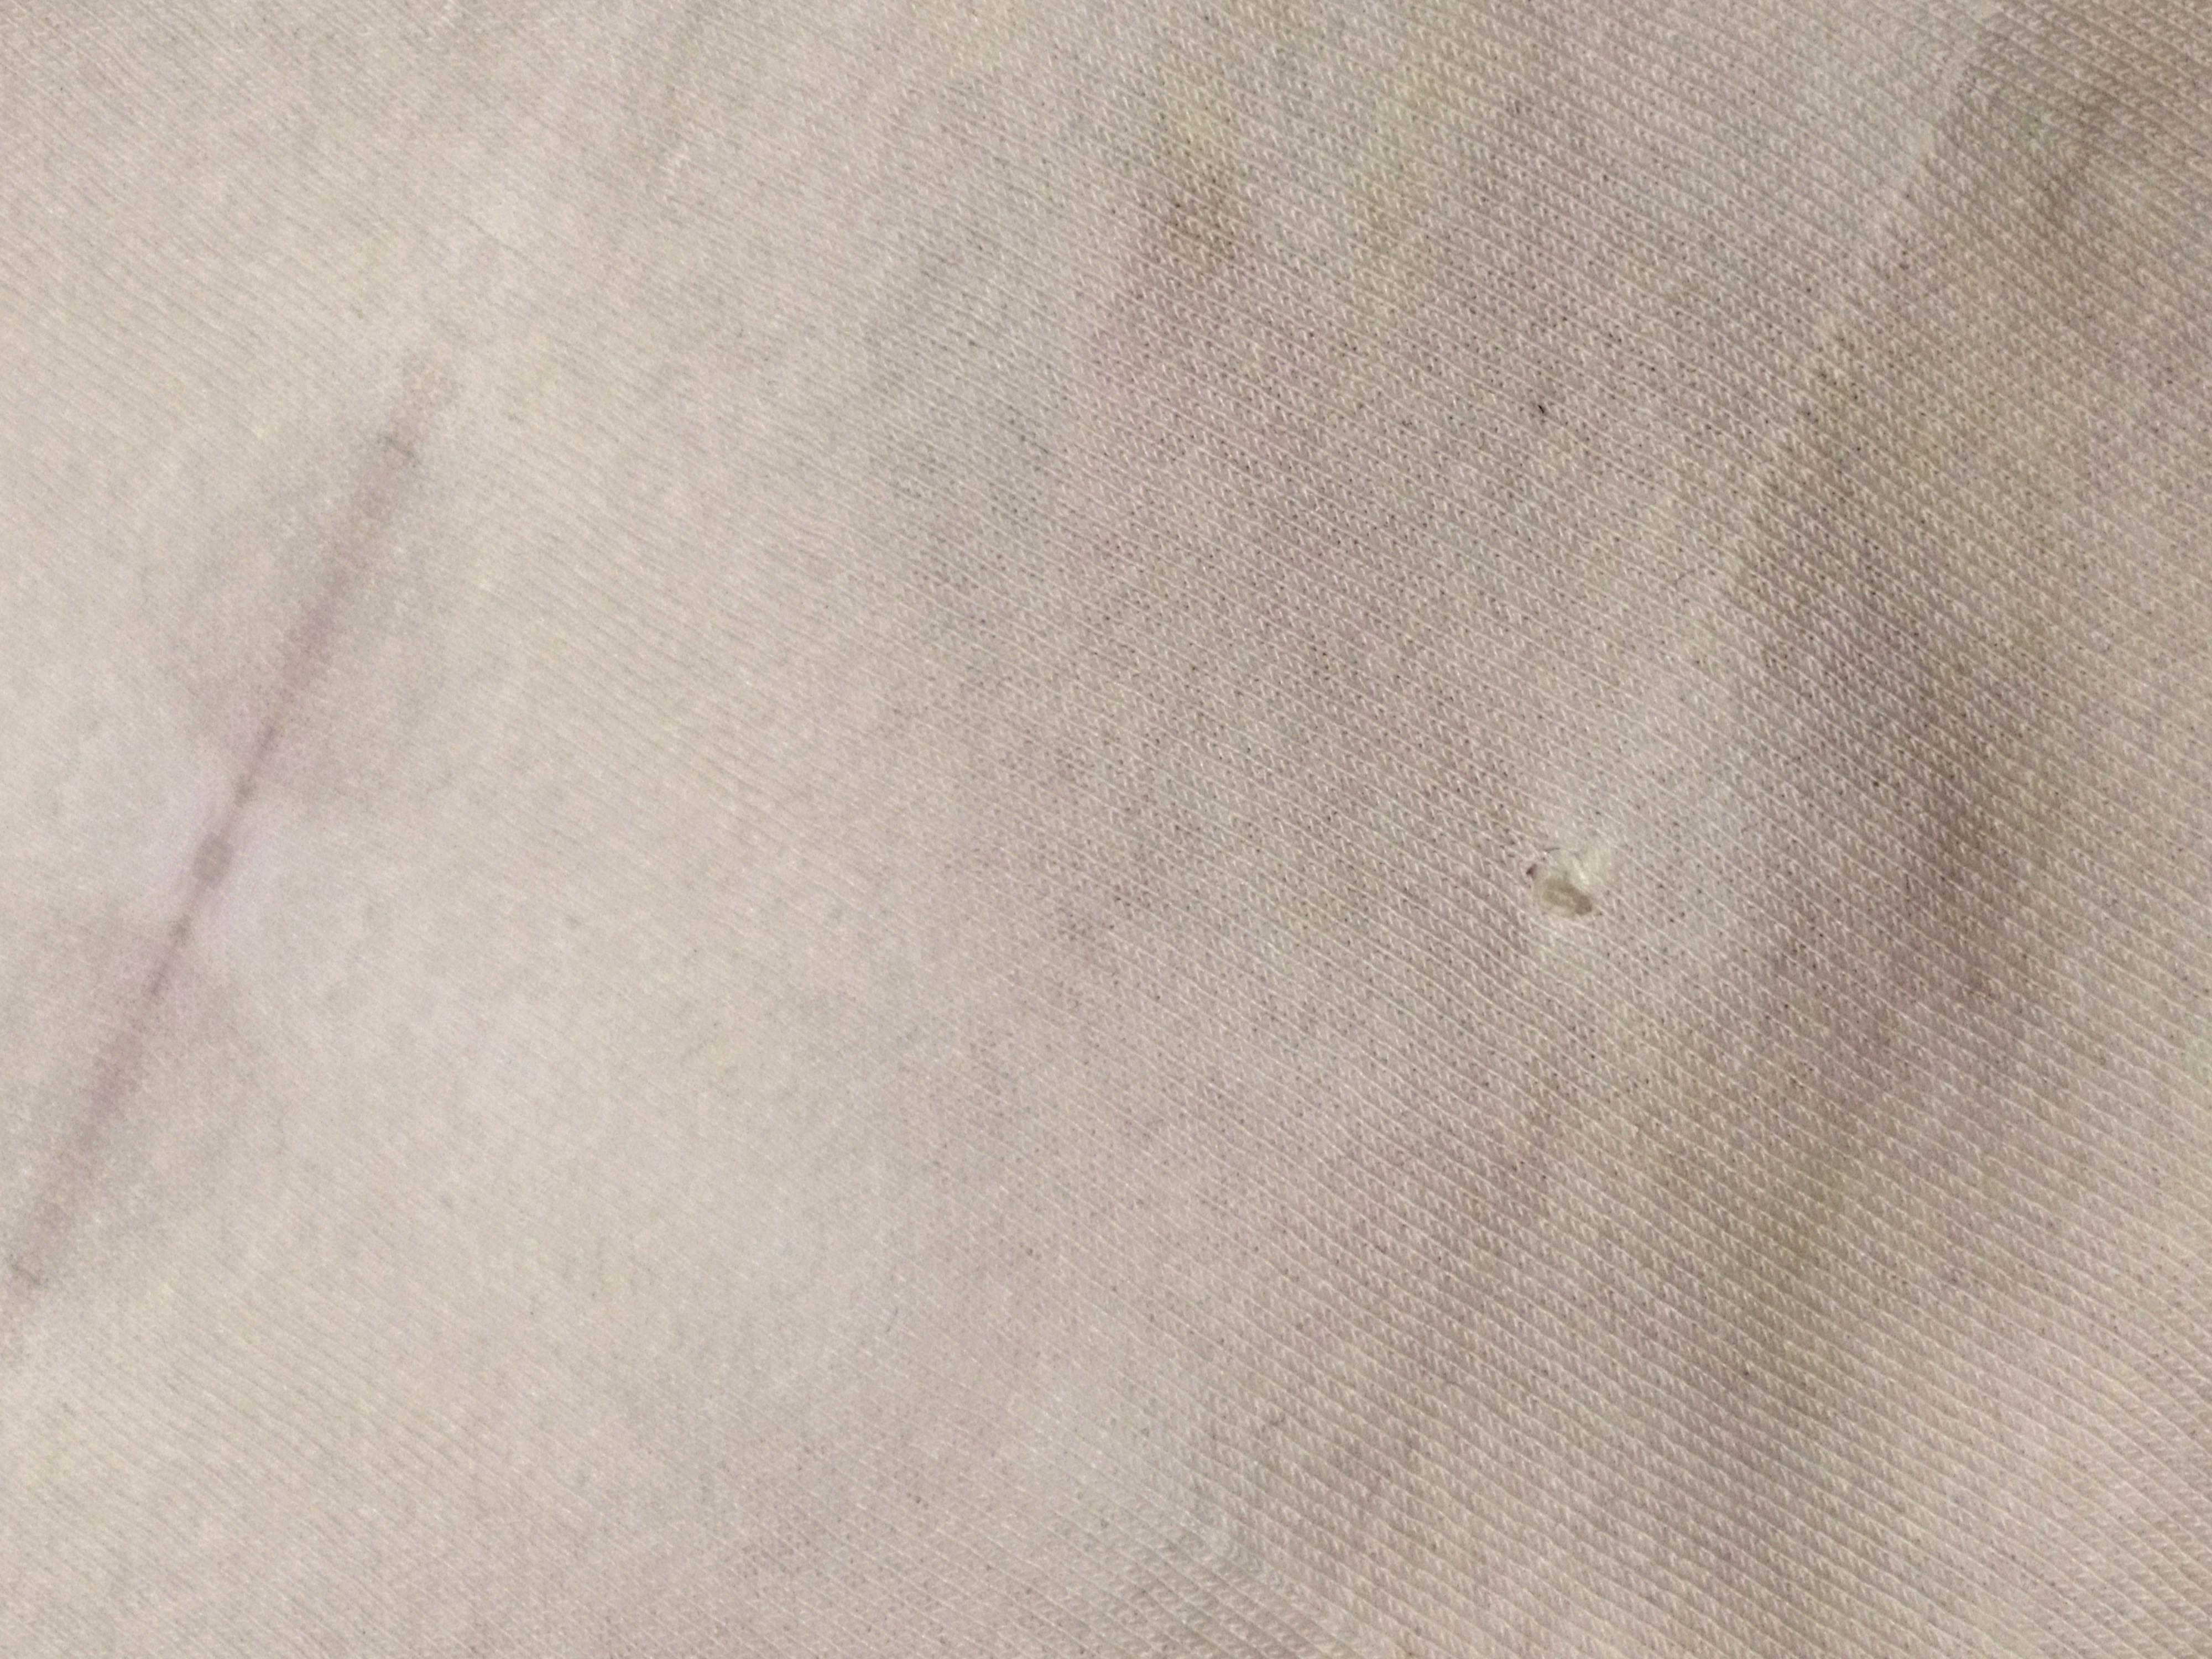knot: (1486, 809, 1649, 958)
